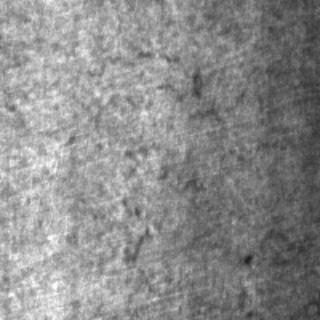crazing: (43, 46, 284, 150), (117, 164, 315, 264)
